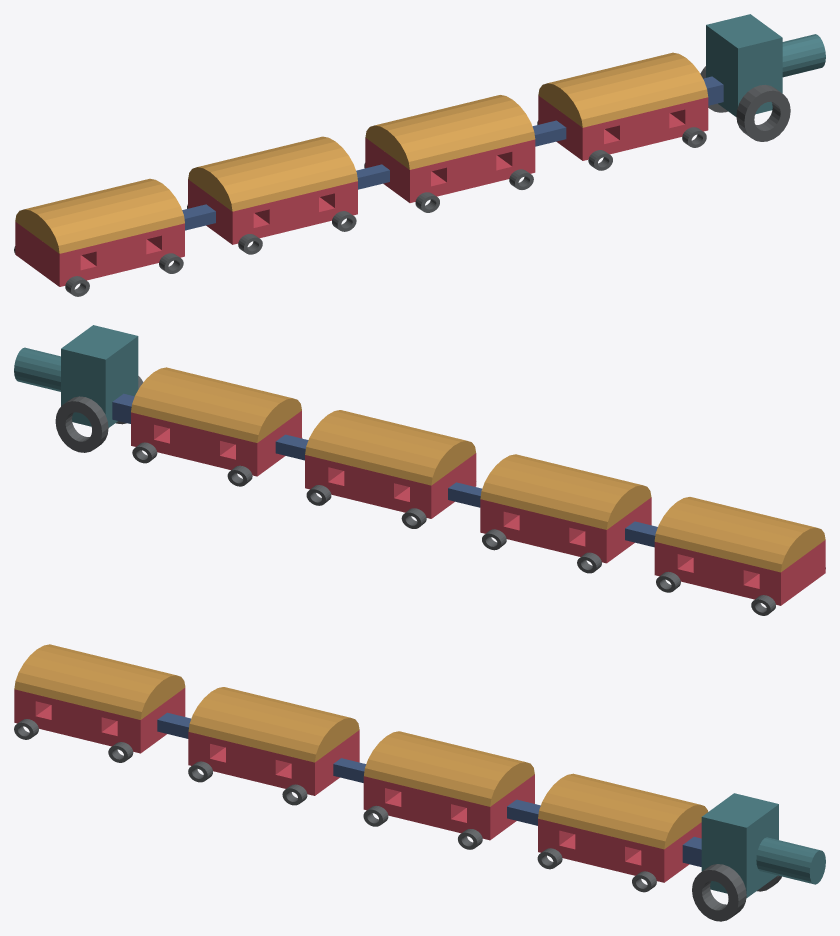
Rendered from Project-150.glb.
The picture shows the model from 3 angles, top to bottom: view 1: azimuth 30°, elevation 25°; view 2: azimuth 150°, elevation 25°; view 3: azimuth 330°, elevation 25°; orthographic projection.
Parts seen in each view (by area): view 1: Mesh_Mesh_head_geo.001_lambert2SG.001; view 2: Mesh_Mesh_head_geo.001_lambert2SG.001; view 3: Mesh_Mesh_head_geo.001_lambert2SG.001.
Part boxes in pixels (bbox=[...]): Mesh_Mesh_head_geo.001_lambert2SG.001: bbox=[14, 14, 825, 296]; Mesh_Mesh_head_geo.001_lambert2SG.001: bbox=[14, 325, 825, 615]; Mesh_Mesh_head_geo.001_lambert2SG.001: bbox=[14, 644, 825, 921].
Size of the model in its own units: 279 by 31.63 by 36.
